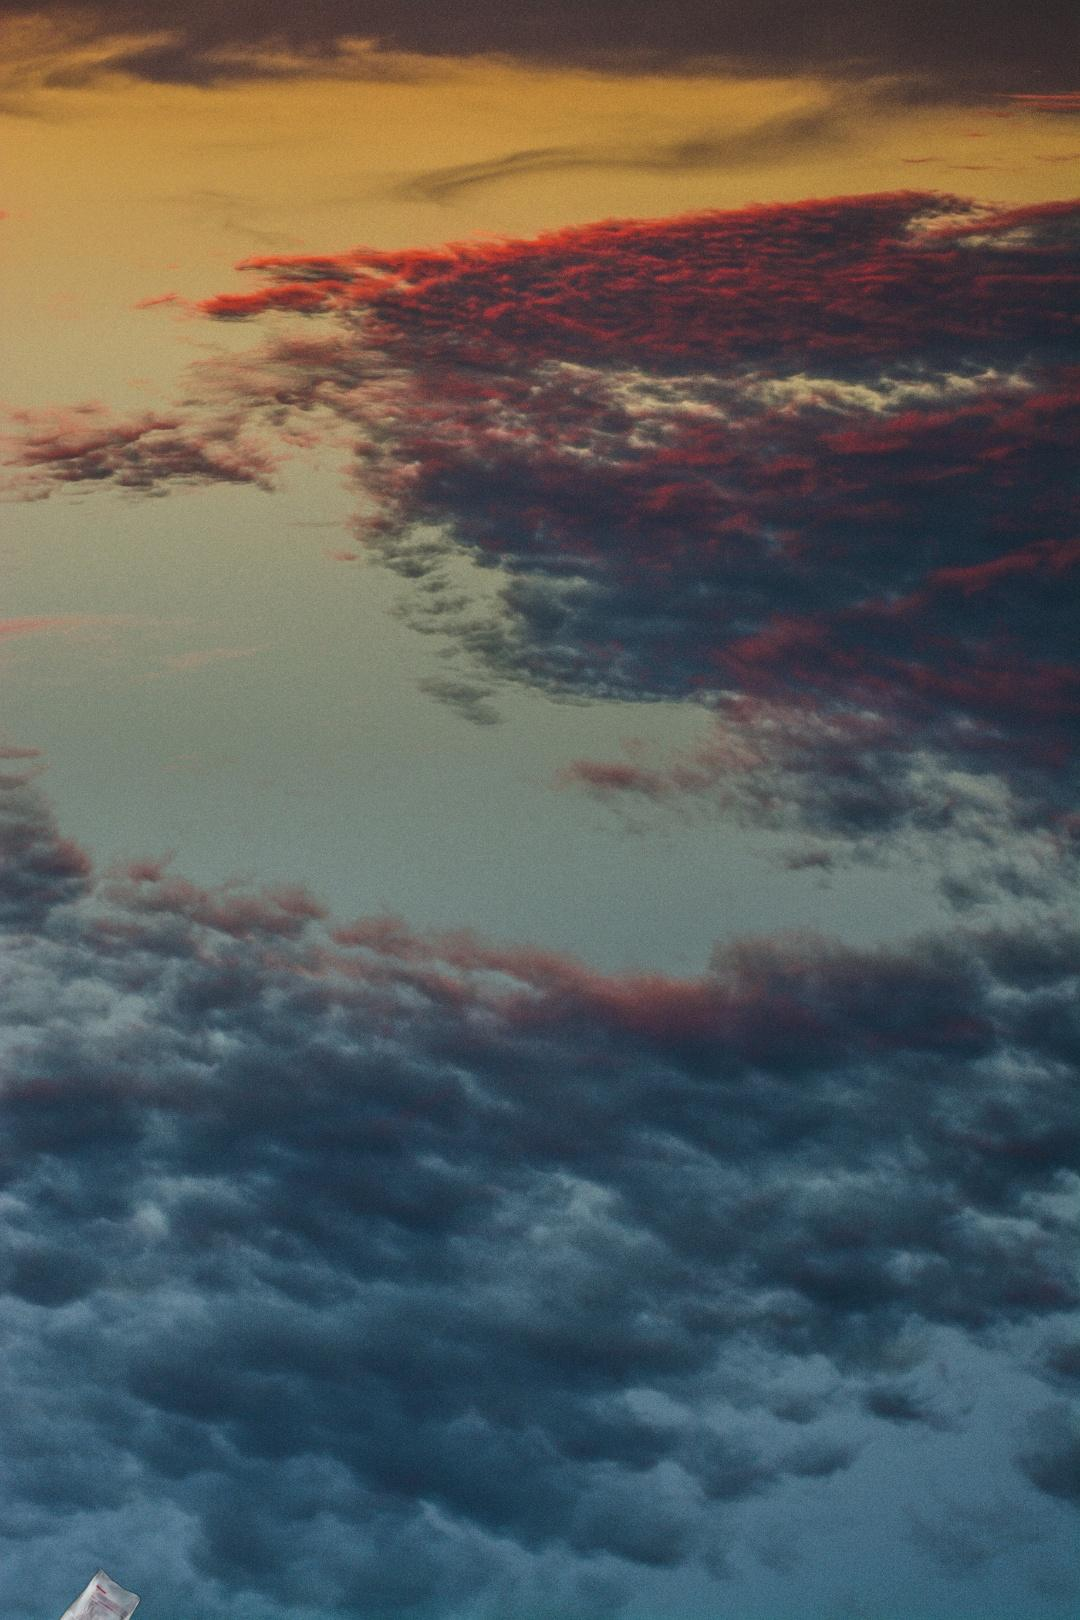plastic-bag: (40, 1550, 245, 1620)
